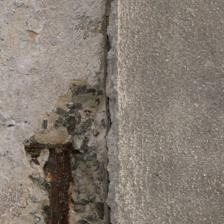Crack: (49, 2, 82, 223)
